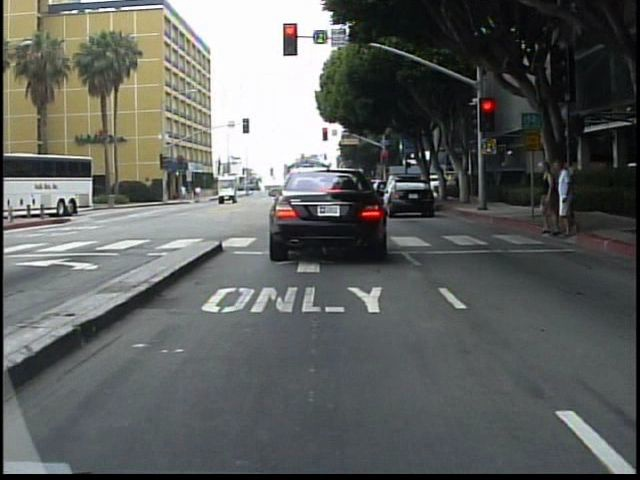person: (554, 160, 578, 239), (536, 160, 556, 239)
